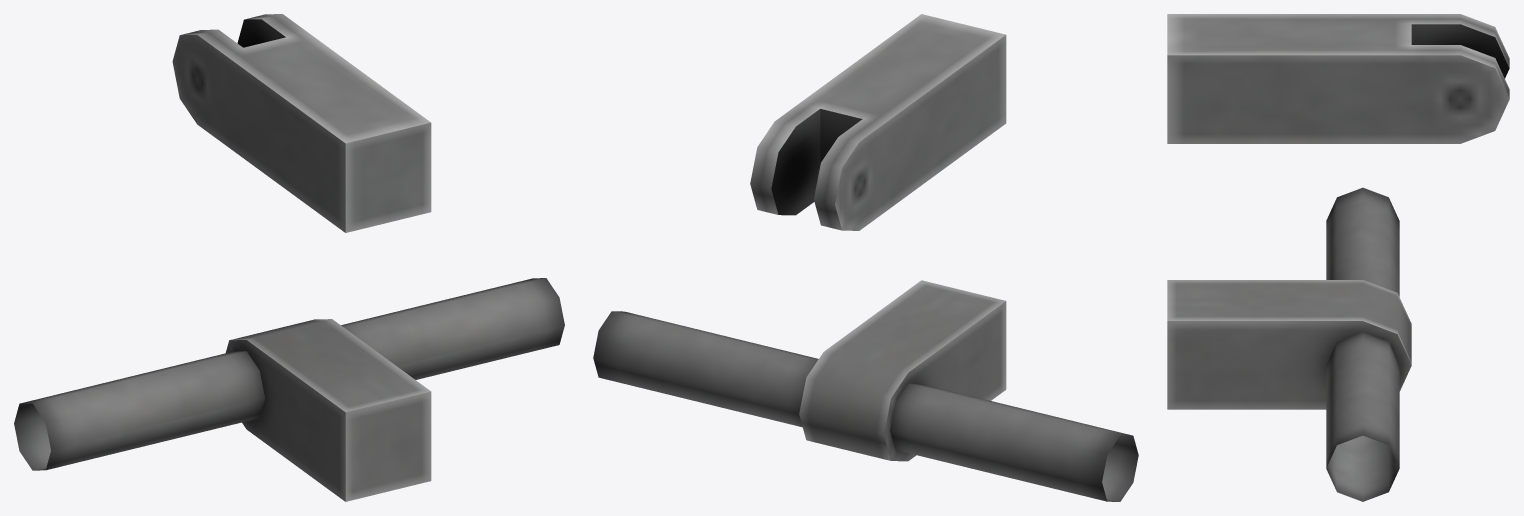
The model's file is base_extended.obj.
The picture shows the model from 3 angles, left to right: view 1: azimuth 30°, elevation 25°; view 2: azimuth 150°, elevation 25°; view 3: azimuth 270°, elevation 25°; orthographic projection.
Parts seen in each view (by area): view 1: 1; view 2: 1; view 3: 1.
Boxes of the visible parts, x1,y1,x2,y2 form: 1: (14,14,564,501); 1: (593,14,1138,501); 1: (1167,14,1509,501).
Bounding box in the file's own units: 0.3 × 0.2 × 0.175.
1 material, 1 textured.
